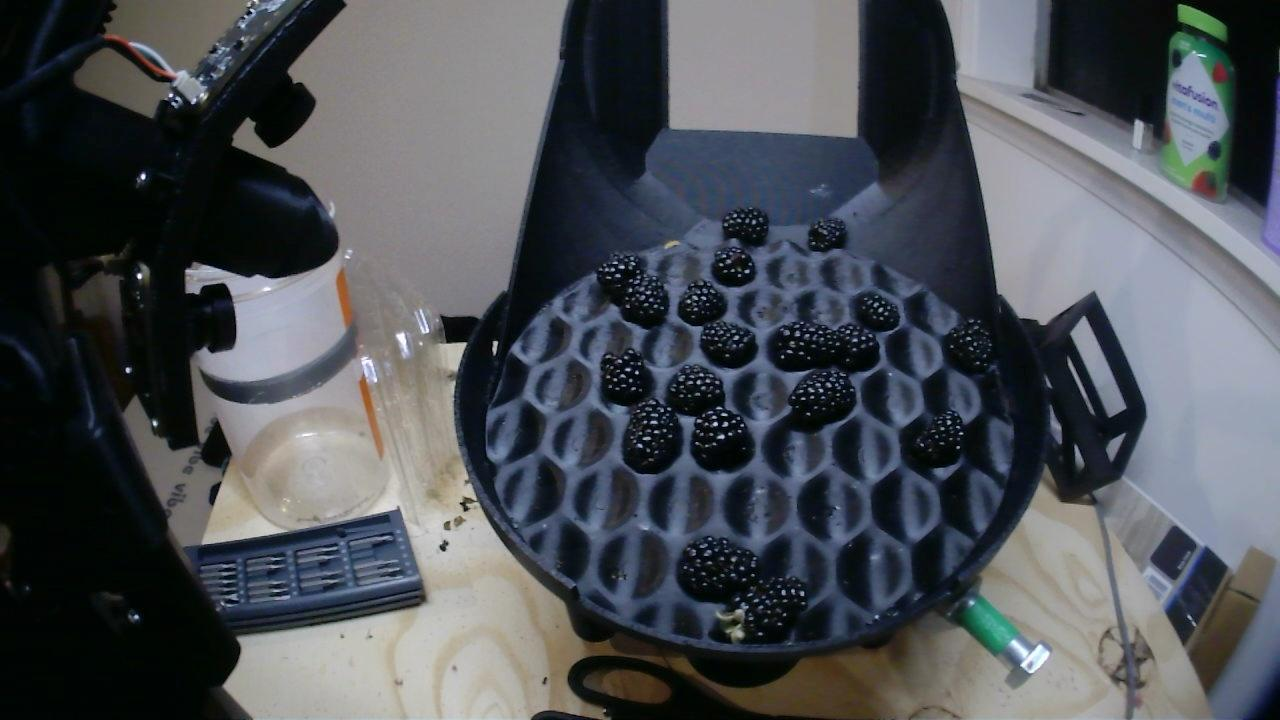berry: (717, 577, 807, 643), (678, 535, 758, 597), (622, 398, 680, 471), (791, 368, 854, 426), (692, 407, 751, 467), (772, 319, 841, 366), (910, 415, 966, 465), (618, 273, 668, 327), (667, 364, 724, 411), (944, 319, 993, 372), (601, 348, 649, 402), (596, 252, 644, 298), (833, 323, 879, 371), (702, 321, 753, 363), (680, 283, 726, 323), (721, 208, 766, 244), (711, 246, 753, 282), (855, 292, 894, 328), (808, 218, 846, 248)
